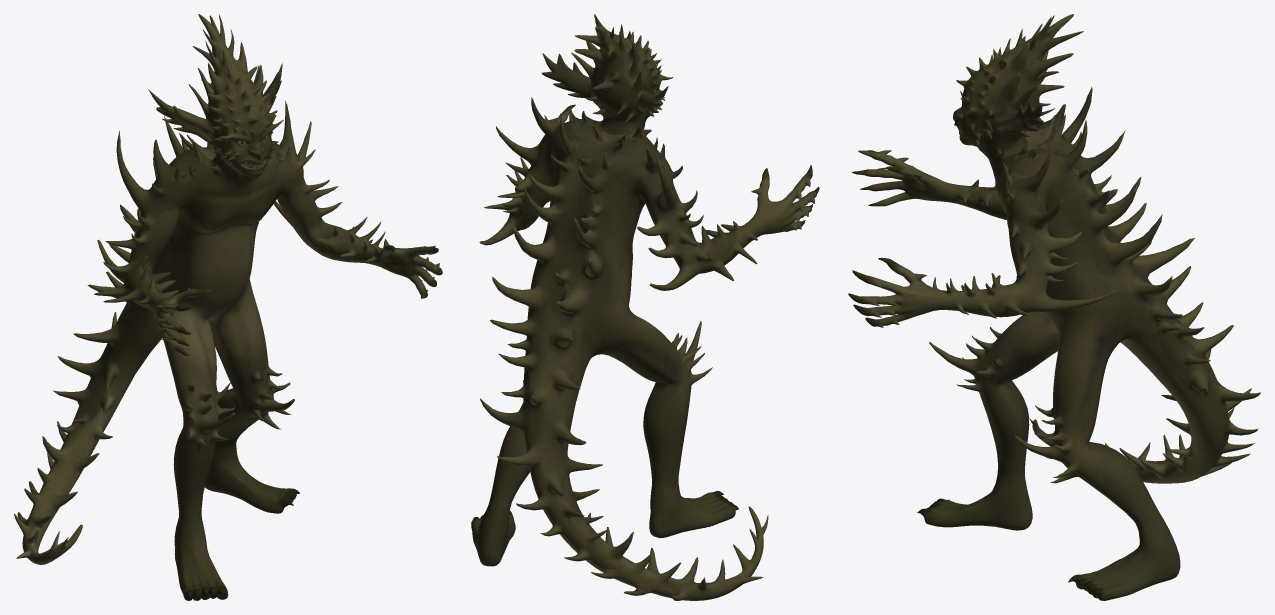
The model's file is MZ4250 - Barbed Devil.glb.
3 views of the same model, side by side, from view 1: azimuth 30°, elevation 25°; view 2: azimuth 150°, elevation 25°; view 3: azimuth 270°, elevation 25° (orthographic). The views are drawn at different scales.
Parts seen in each view (by area): view 1: default; view 2: default; view 3: default.
Boxes of the visible parts, <box> form: default: <box>14,14,442,600</box>; default: <box>471,14,819,600</box>; default: <box>848,14,1260,600</box>.
Bounding box in the file's own units: 0.6965 × 1.09 × 0.7592.
1 material, 1 textured.
